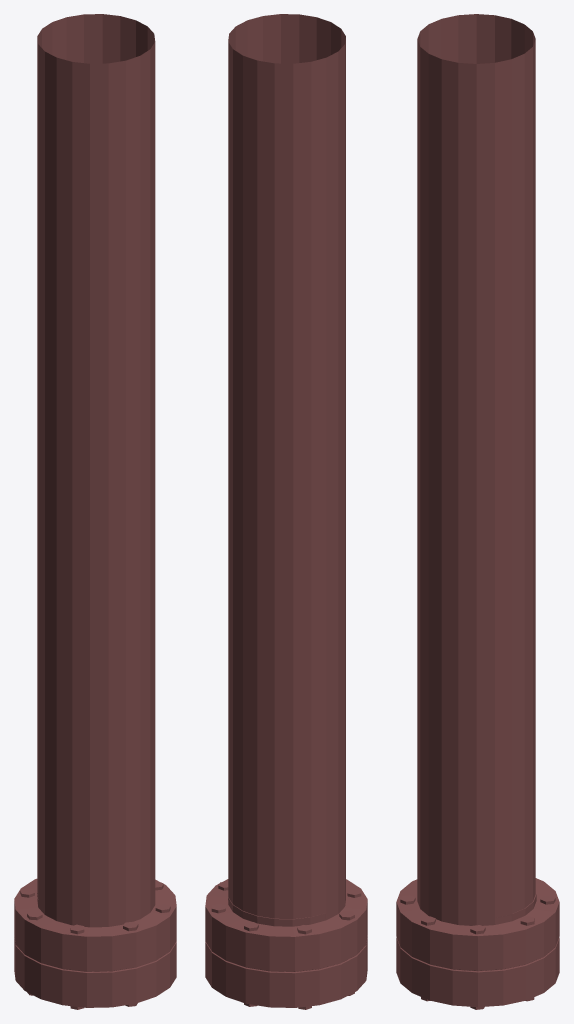
The model's file is straightPipe.fbx.
The picture shows the model from 3 angles, left to right: view 1: azimuth 30°, elevation 25°; view 2: azimuth 150°, elevation 25°; view 3: azimuth 270°, elevation 25°; orthographic projection.
Visible parts, largest first — view 1: straightPipe; view 2: straightPipe; view 3: straightPipe.
Part boxes in pixels (x1,y1,x2,y2): straightPipe: (14, 14, 176, 1009); straightPipe: (205, 14, 367, 1009); straightPipe: (396, 14, 559, 1009).
Size of the model in its own units: 8.57 by 54.46 by 8.57.
